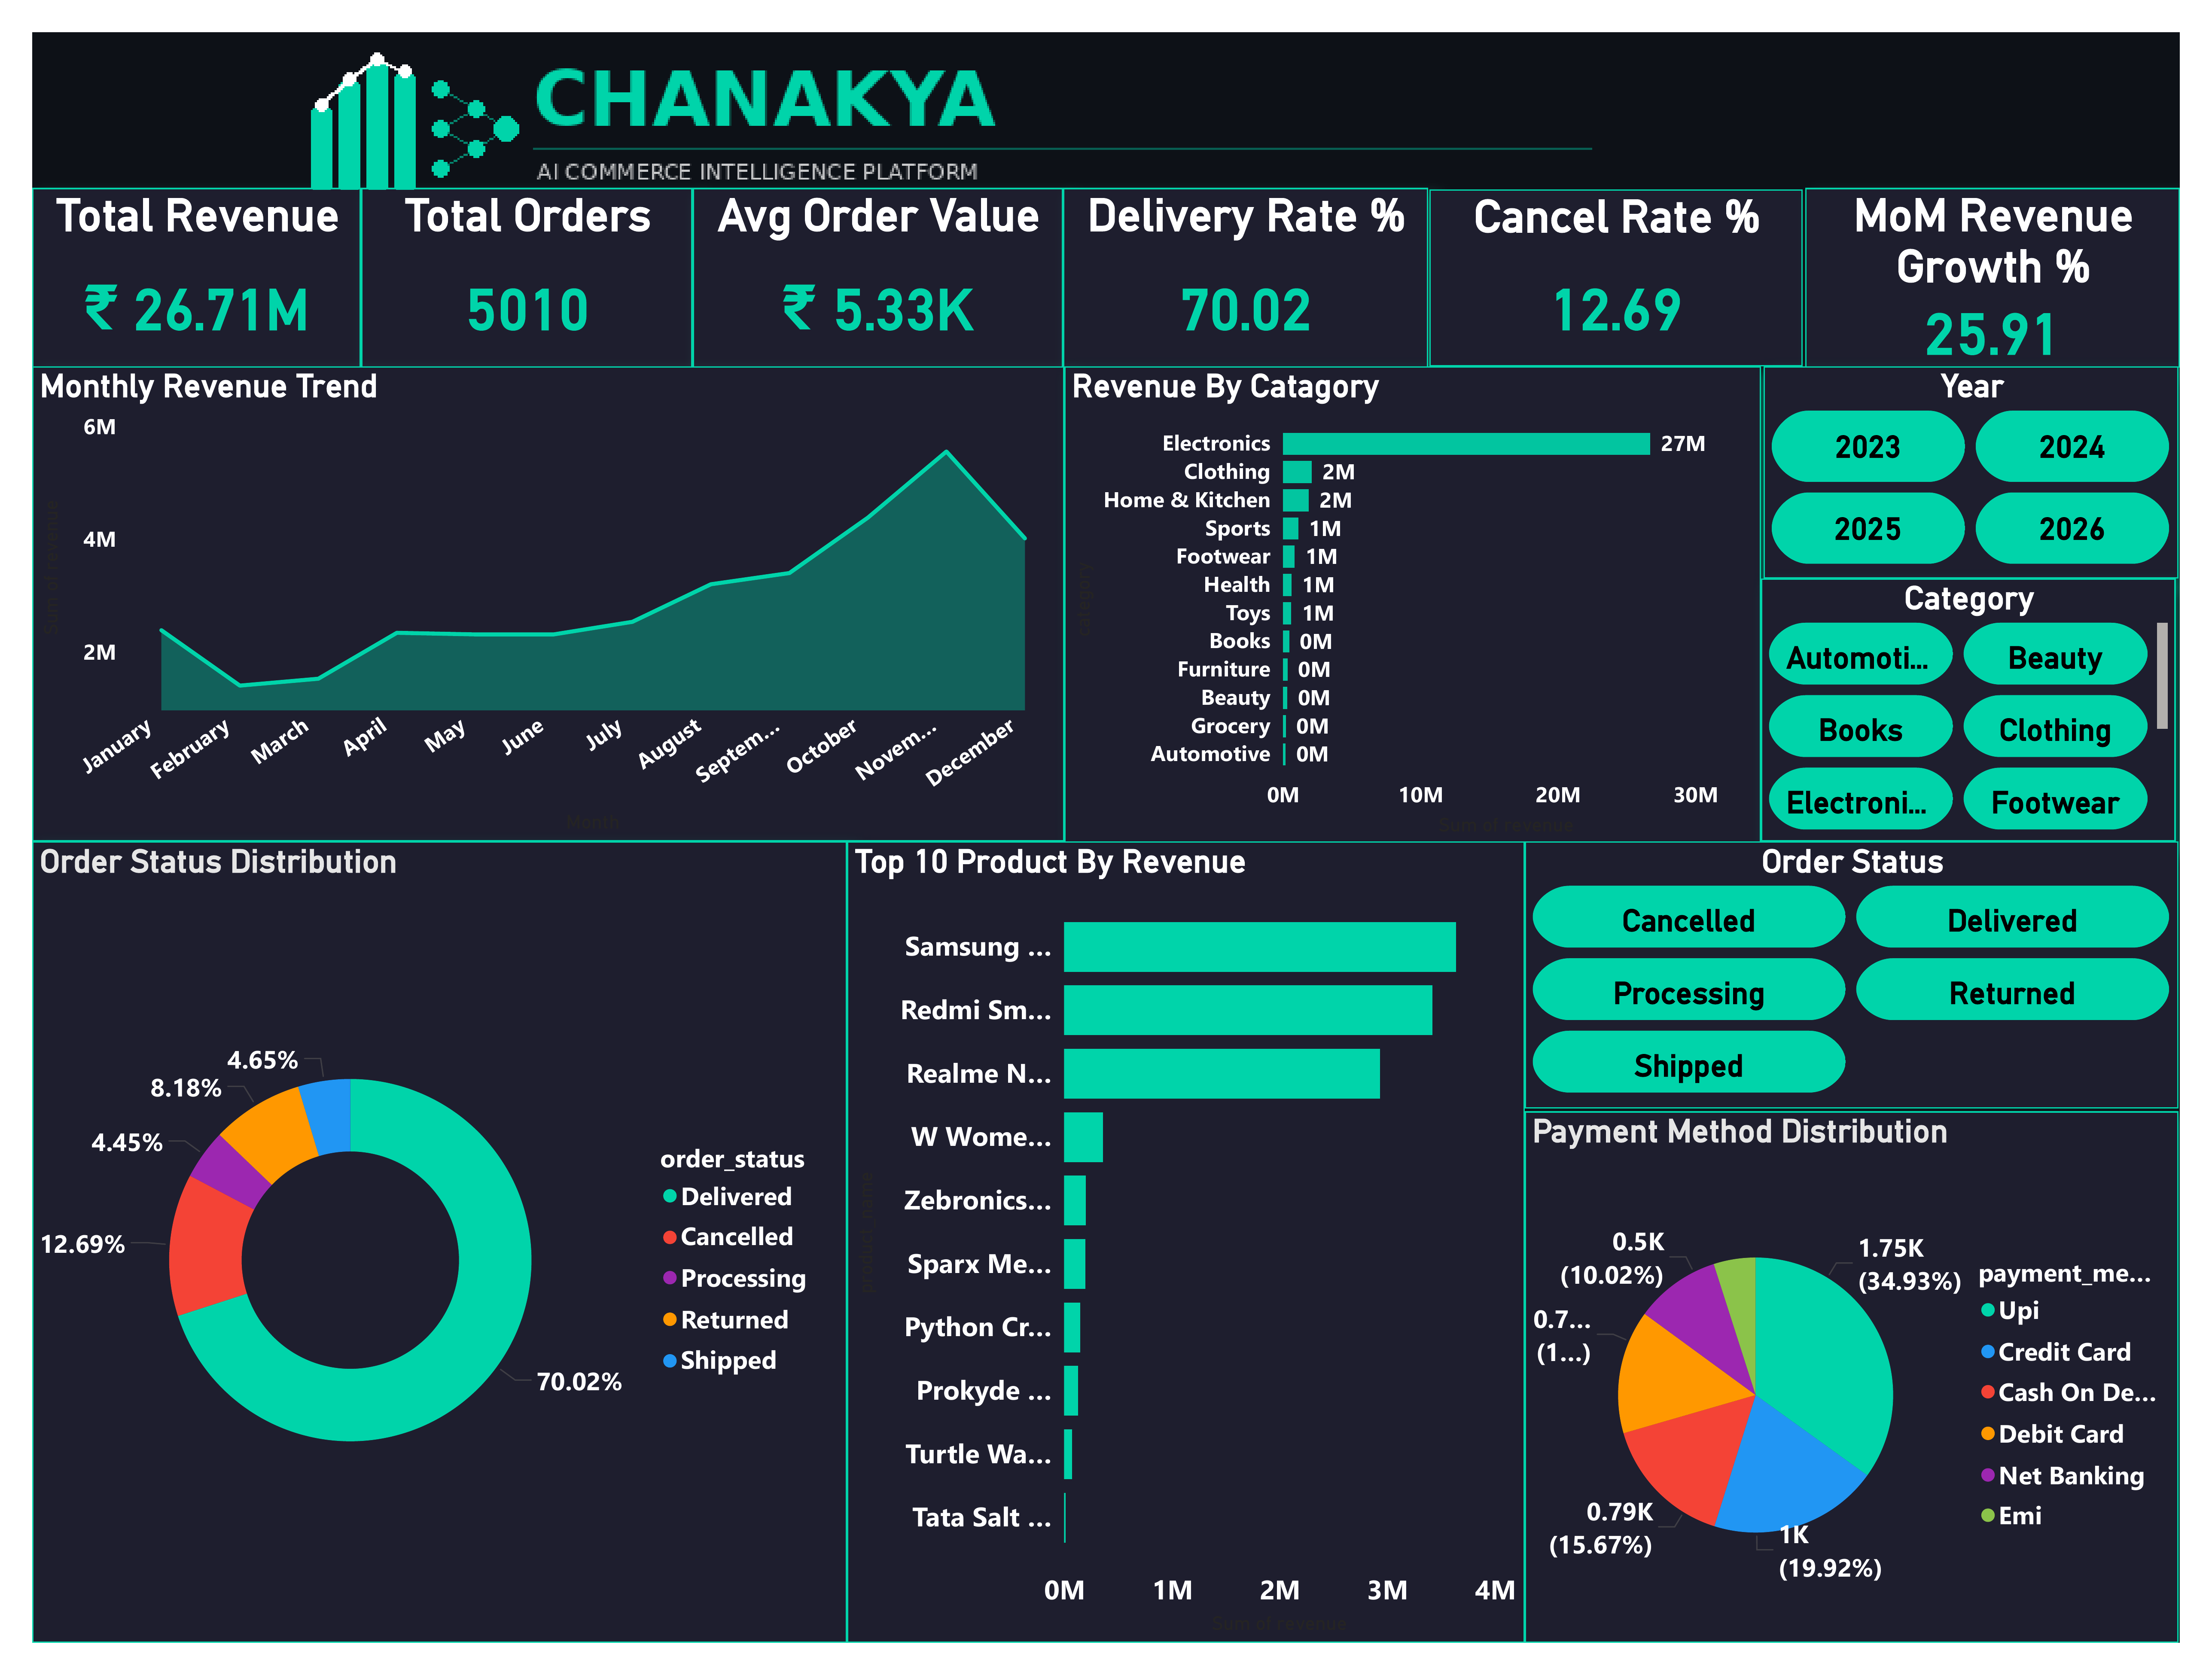

This screenshot's page, from the dashboard's own definition file:
{"tool":"powerbi","page":{"name":"Executive Summary","canvas":[1600,1200],"ordinal":0},"visuals":[{"type":"card","title":"Total Revenue","fields":{"Values":["order_items_processed.Total Revenue"]},"box":[0,116.1,245.2,133.9],"z":0},{"type":"card","title":"Total Orders","fields":{"Values":["order_items_processed.Total Orders"]},"box":[245.2,116.1,246.8,133.9],"z":1000},{"type":"card","title":"Avg Order Value","fields":{"Values":["order_items_processed.Avg Order Value"]},"box":[491.9,116.1,275.8,133.9],"z":2000},{"type":"card","title":"Delivery Rate %","fields":{"Values":["order_items_processed.Delivery Rate %"]},"box":[767.7,116.1,272.6,133.9],"z":3000},{"type":"lineChart","title":"Monthly Revenue Trend","fields":{"Category":["order_items_processed.order_date.Variation.Date Hierarchy.Year","order_items_processed.order_date.Variation.Date Hierarchy.Quarter","order_items_processed.order_date.Variation.Date Hierarchy.Month","order_items_processed.order_date.Variation.Date Hierarchy.Day"],"Y":["Sum(order_items_processed.revenue)"]},"box":[0,249.5,768.9,353.8],"z":4000},{"type":"clusteredBarChart","title":"Revenue By Catagory","fields":{"Category":["order_items_processed.category"],"Y":["Sum(order_items_processed.revenue)"]},"box":[768.9,249.5,519.4,355.8],"z":5000},{"type":"card","title":"Cancel Rate %","fields":{"Values":["order_items_processed.Cancellation Rate %"]},"box":[1040.9,116.6,278.1,132.9],"z":6000},{"type":"card","title":"MoM Revenue Growth %","fields":{"Values":["order_items_processed.MoM Revenue Growth %"]},"box":[1321,116.1,279,133.9],"z":7000},{"type":"donutChart","title":"Order Status Distribution","fields":{"Category":["orders_processed.order_status"],"Y":["orders_processed.Delivered Orders","orders_processed.Cancelled Orders","orders_processed.Processing Orders","orders_processed.Returned Orders","orders_processed.Shipped Orders"]},"box":[0,603.3,607.4,597.1],"z":7001},{"type":"pieChart","title":"Payment Method Distribution","fields":{"Category":["orders_processed.payment_method"],"Y":["CountNonNull(orders_processed.order_id)"]},"box":[1112.5,803.7,486.7,396.7],"z":7002},{"type":"advancedSlicerVisual","title":"Year","fields":{"Values":["orders_processed.order_year"]},"box":[1290.4,249.5,308.8,157.5],"z":7003},{"type":"advancedSlicerVisual","title":"Category","fields":{"Values":["order_items_processed.category"]},"box":[1288.4,407,308.8,196.3],"z":7004},{"type":"advancedSlicerVisual","title":"Order Status","fields":{"Values":["orders_processed.order_status"]},"box":[1112.5,603.3,486.7,198.4],"z":7005},{"type":"clusteredBarChart","title":"Top 10 Product By Revenue","fields":{"Category":["order_items_processed.product_name"],"Y":["Sum(order_items_processed.revenue)"]},"box":[607.4,603.3,505.1,597.1],"z":7006},{"type":"image","box":[0,0,1359.9,143.2],"z":7007}]}

Visuals, with their boxes on the page's 1600x1200 design canvas (x1, y1, x2, y2). These are canvas units, not pixel positions in the 2212x1675 screenshot, which may show the page scaled, cropped or inside an application window:
"Total Revenue" card: select_region(0, 116, 245, 250)
"Total Orders" card: select_region(245, 116, 492, 250)
"Avg Order Value" card: select_region(492, 116, 768, 250)
"Delivery Rate %" card: select_region(768, 116, 1040, 250)
"Monthly Revenue Trend" lineChart: select_region(0, 250, 769, 603)
"Revenue By Catagory" clusteredBarChart: select_region(769, 250, 1288, 605)
"Cancel Rate %" card: select_region(1041, 117, 1319, 250)
"MoM Revenue Growth %" card: select_region(1321, 116, 1600, 250)
"Order Status Distribution" donutChart: select_region(0, 603, 607, 1200)
"Payment Method Distribution" pieChart: select_region(1112, 804, 1599, 1200)
"Year" advancedSlicerVisual: select_region(1290, 250, 1599, 407)
"Category" advancedSlicerVisual: select_region(1288, 407, 1597, 603)
"Order Status" advancedSlicerVisual: select_region(1112, 603, 1599, 802)
"Top 10 Product By Revenue" clusteredBarChart: select_region(607, 603, 1112, 1200)
image: select_region(0, 0, 1360, 143)
